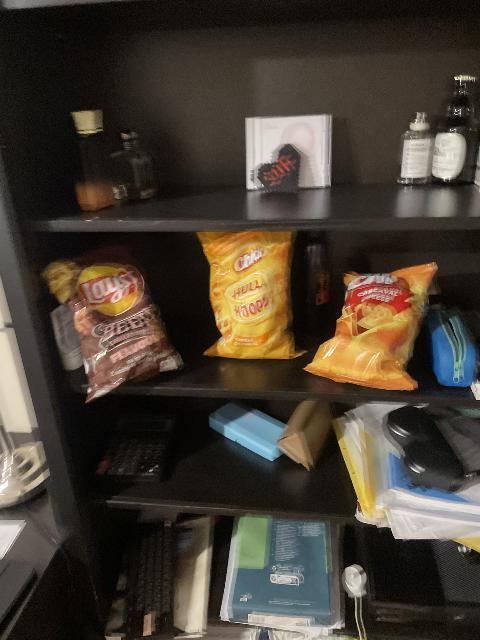Chio Cascaval 125g: (303, 261, 432, 390)
Chio Hula Hoops Cheese 70g: (193, 233, 299, 360)
Lays Beef Grilled Ribs 125g: (53, 253, 189, 403)
